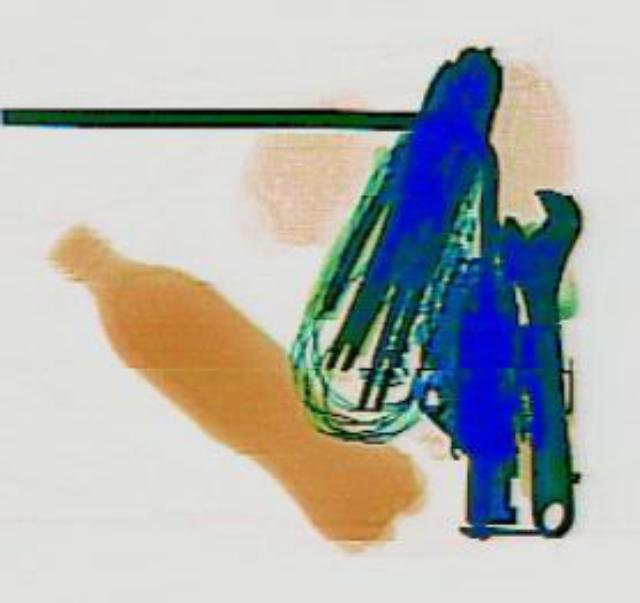Wrench: (492, 184, 596, 537)
